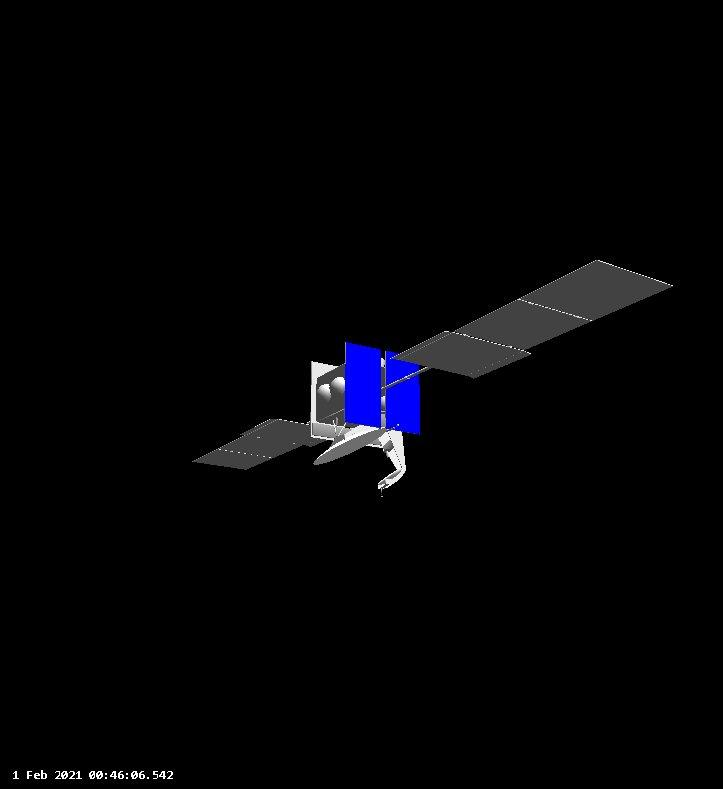antenna: (310, 427, 385, 466), (373, 467, 408, 493)
body: (313, 359, 404, 430)
solar: (388, 254, 678, 382), (189, 413, 336, 479), (302, 354, 395, 451), (340, 338, 425, 439)
